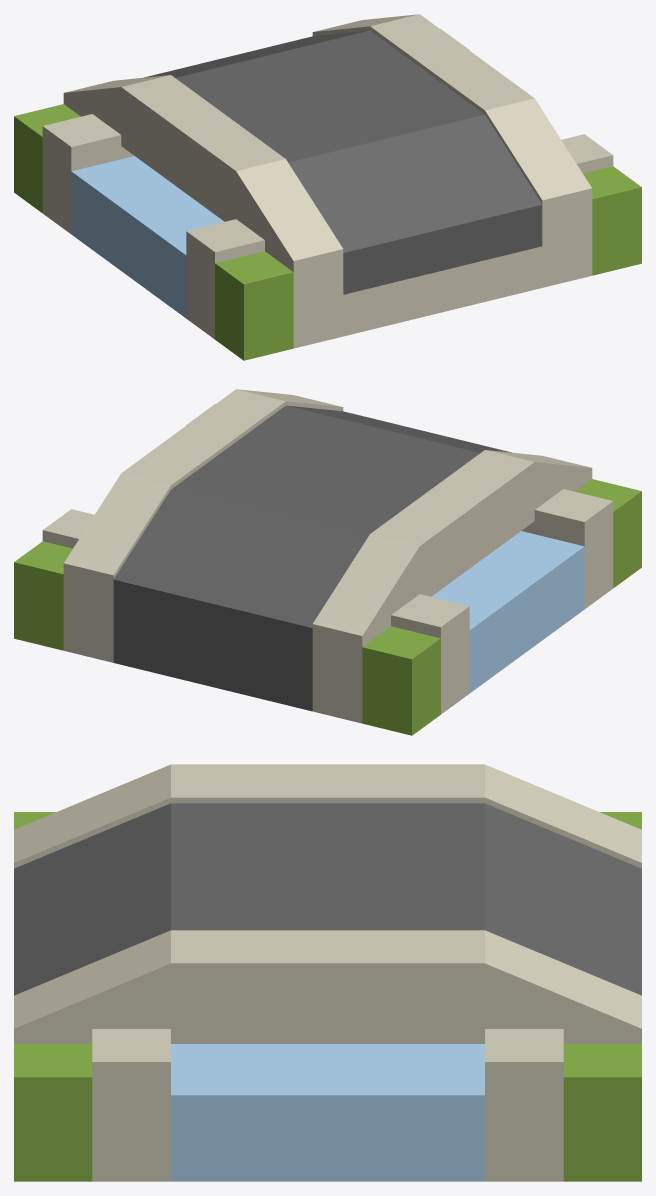
File: roadTile_233.obj
The picture shows the model from 3 angles, top to bottom: view 1: azimuth 30°, elevation 25°; view 2: azimuth 150°, elevation 25°; view 3: azimuth 270°, elevation 25°; orthographic projection. The views are drawn at different scales.
Visible parts, largest first — view 1: Mesh1_Group1_Model.188; view 2: Mesh1_Group1_Model.188; view 3: Mesh1_Group1_Model.188.
Boxes of the visible parts, left/top/right/bottom form: Mesh1_Group1_Model.188: left=14, top=14, right=641, bottom=360; Mesh1_Group1_Model.188: left=14, top=389, right=641, bottom=735; Mesh1_Group1_Model.188: left=14, top=764, right=641, bottom=1181.
Size of the model in its own units: 3 by 0.975 by 3.
